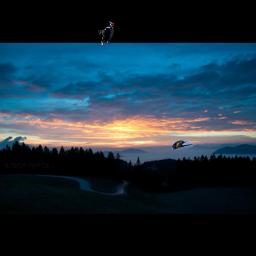Swallow: (172, 140, 193, 150)
Woodpecker: (98, 21, 114, 45)
